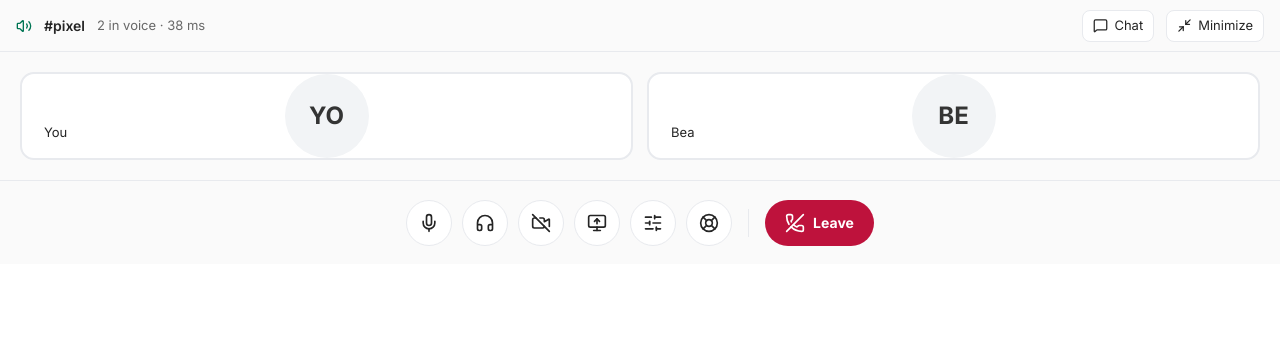
Test: el chat de la sala › la etiqueta dice lo que va a hacer, no en qué estado está
Click the button "Chat" at x=1118, y=26, box [1082,10,1154,42]
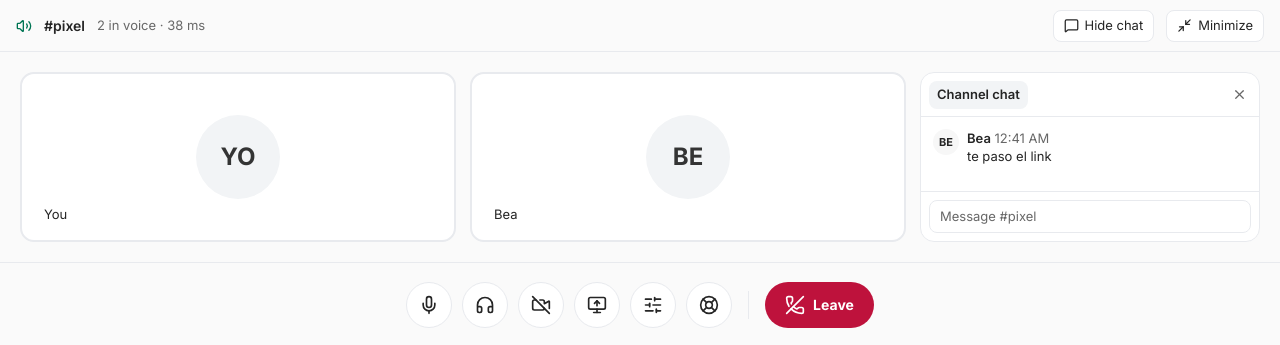
Expected: the text "Hide chat" is shown, [1084,16,1143,35]
